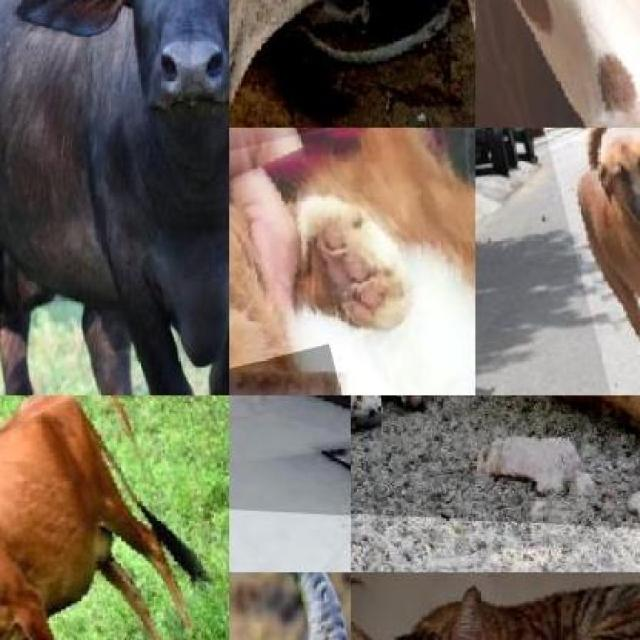buffalo: (0, 0, 229, 395)
cat: (230, 128, 476, 395), (351, 572, 640, 640)
cow: (0, 395, 229, 640), (230, 0, 476, 128), (475, 0, 640, 128)
dog: (351, 396, 640, 536), (544, 127, 640, 395)
injured: (230, 0, 476, 128), (229, 343, 386, 395)
